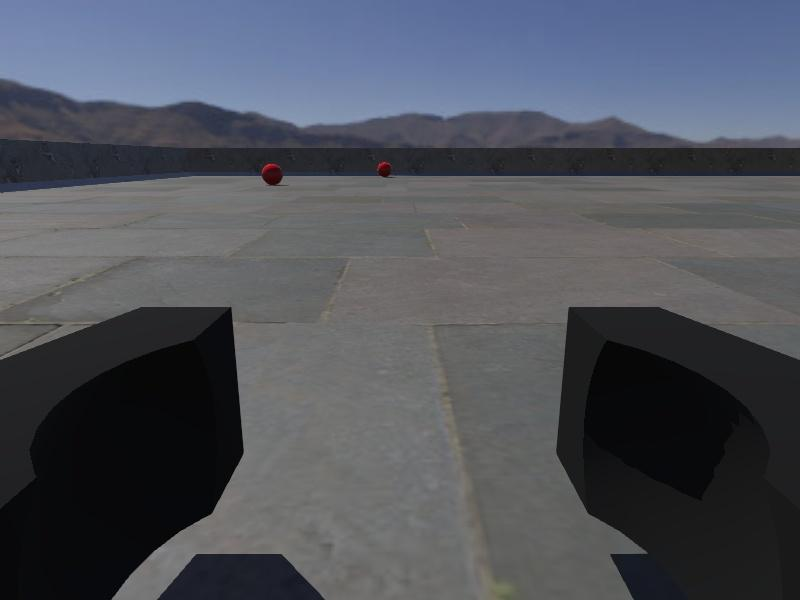red ball: (261, 162, 284, 185), (375, 160, 393, 178)
